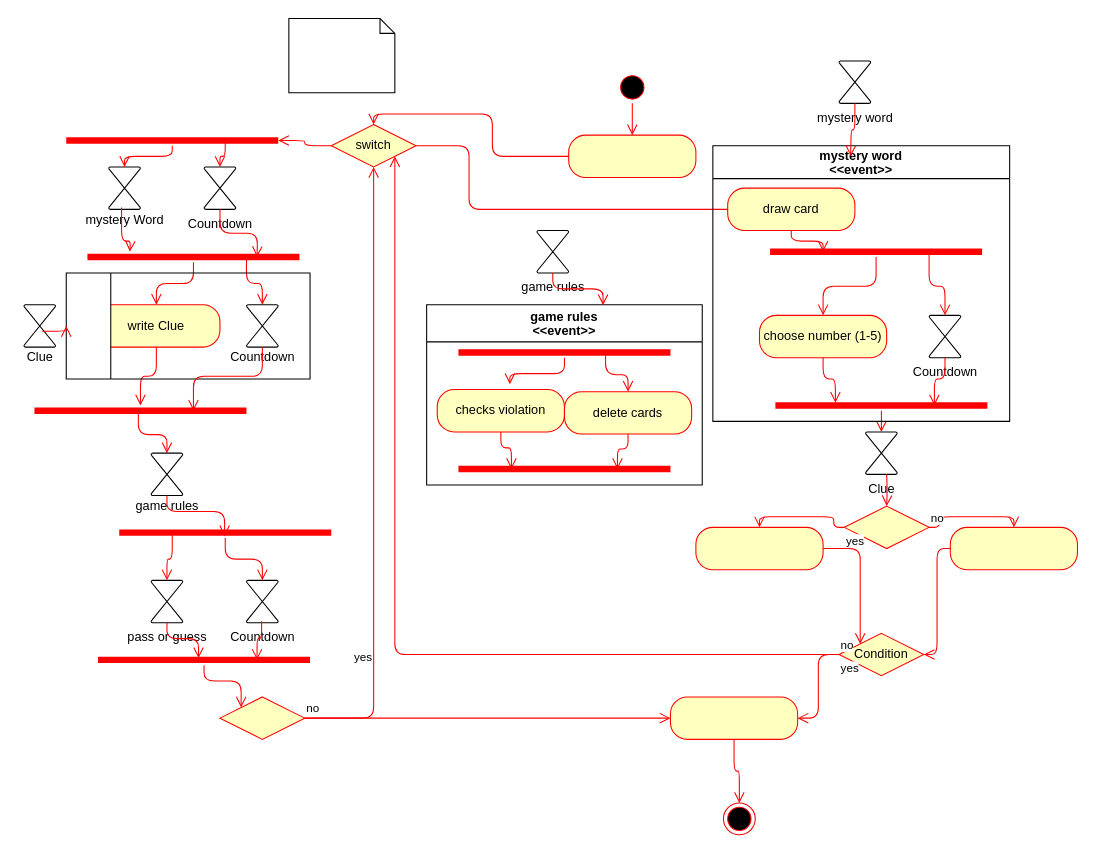
Image size: 1096x853. Some labels were removed from this diagram. Here are the shapes that lost their labels. From the top down, the centre of each, then its label:
At [341,55]: "switch: change to another game role depending on the position".
At [632,156]: "take seat".
At [187,325]: "Clue <<time Event>>".
At [886,527]: "guess?".
At [759,548]: "guess".
At [1013,548]: "pass".
At [262,717]: "cards left?".
At [733,717]: "finish game".
